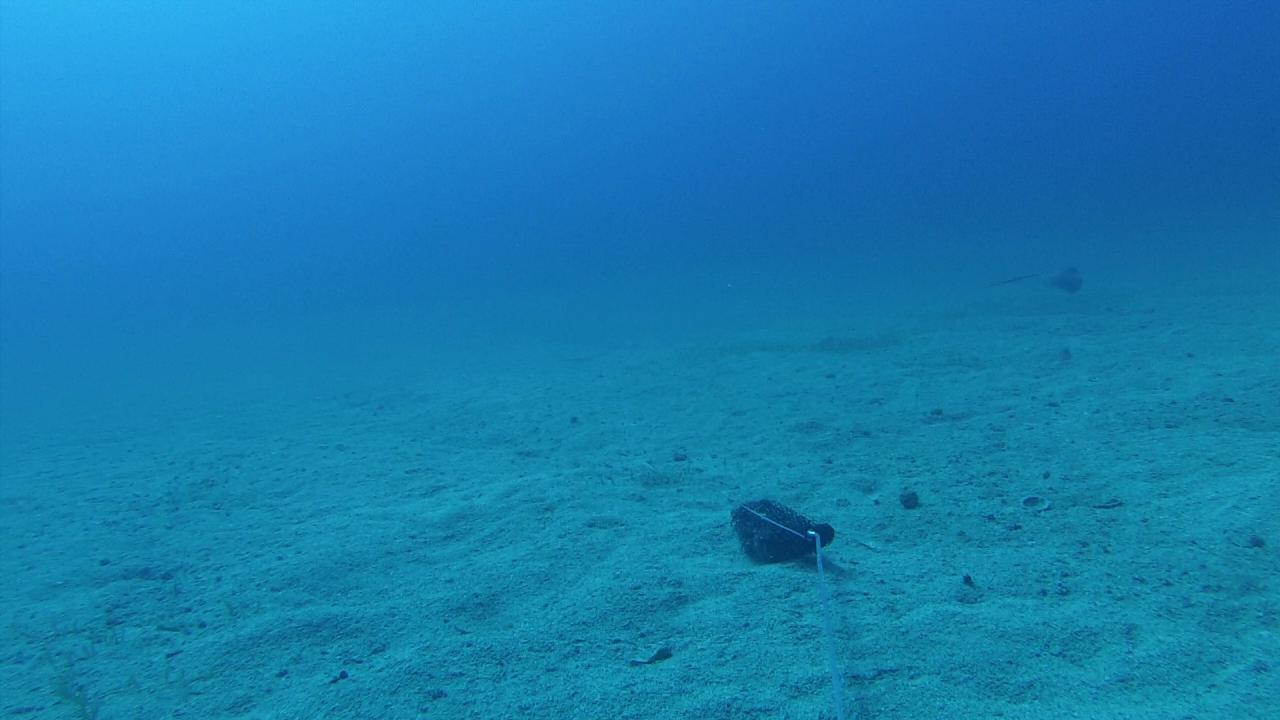dasyatis: (991, 266, 1085, 292)
